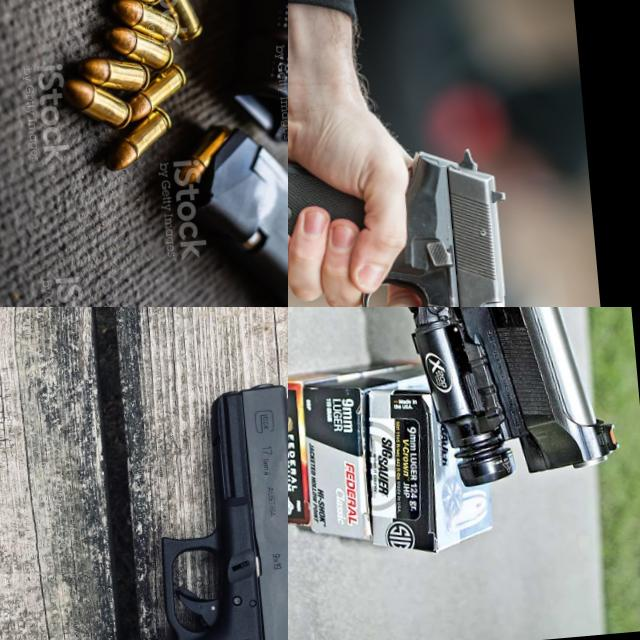handgun: (288, 307, 625, 556), (20, 375, 288, 640), (135, 0, 288, 242), (343, 128, 536, 307)
